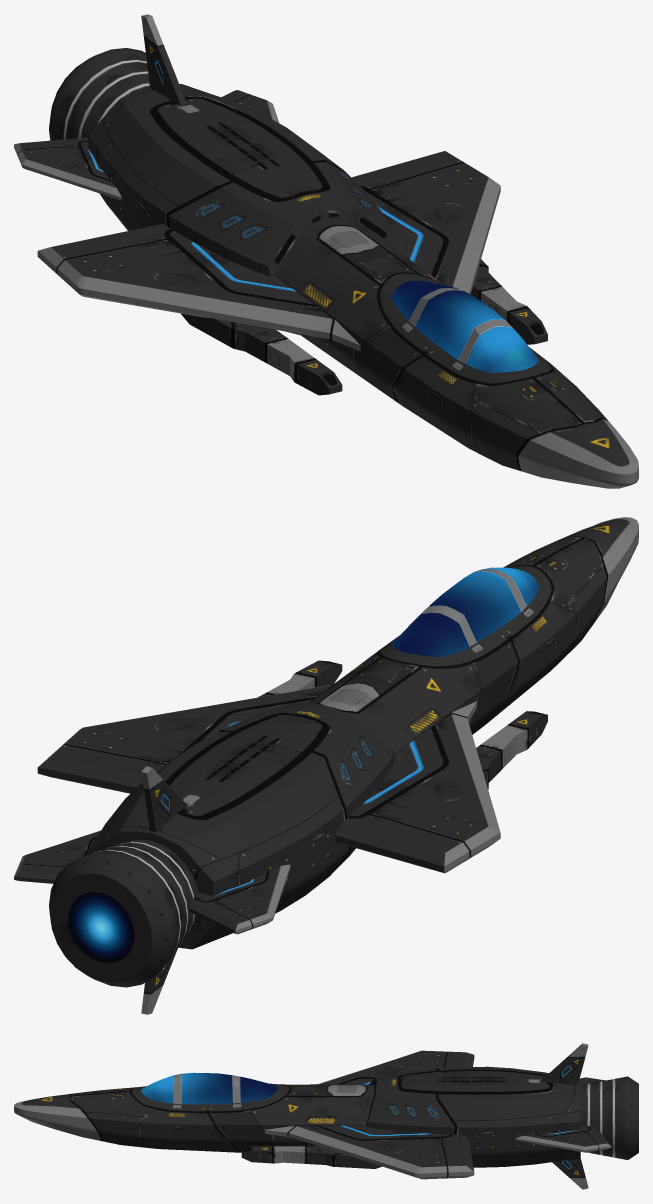
The model's file is StarSparrow12 - Copy.fbx.
3 views of the same model, one above another, from view 1: azimuth 30°, elevation 25°; view 2: azimuth 150°, elevation 25°; view 3: azimuth 270°, elevation 25° (orthographic). The views are drawn at different scales.
Parts seen in each view (by area): view 1: StarSparrow_Core, StarSparrow_Wing, StarSparrow_Wing_1, StarSparrow_Thruster, StarSparrow_Weapon, StarSparrow_Wing_2, StarSparrow_Weapon_1, StarSparrow_Tail, StarSparrow_Wing_3; view 2: StarSparrow_Core, StarSparrow_Thruster, StarSparrow_Wing, StarSparrow_Wing_1, StarSparrow_Wing_2, StarSparrow_Weapon, StarSparrow_Wing_3, StarSparrow_Tail, StarSparrow_Weapon_1, StarSparrow_Tail_1; view 3: StarSparrow_Core, StarSparrow_Wing_1, StarSparrow_Thruster, StarSparrow_Wing, StarSparrow_Weapon_1, StarSparrow_Wing_3, StarSparrow_Tail, StarSparrow_Tail_1.
Part boxes in pixels (<box>): StarSparrow_Core: <box>88,84,638,488</box>; StarSparrow_Wing: <box>37,224,360,351</box>; StarSparrow_Wing_1: <box>351,151,500,294</box>; StarSparrow_Thruster: <box>49,48,149,140</box>; StarSparrow_Weapon: <box>181,313,342,395</box>; StarSparrow_Wing_2: <box>14,137,121,200</box>; StarSparrow_Weapon_1: <box>471,259,547,344</box>; StarSparrow_Tail: <box>141,14,186,105</box>; StarSparrow_Wing_3: <box>221,90,279,123</box>; StarSparrow_Core: <box>88,517,638,949</box>; StarSparrow_Thruster: <box>49,839,198,987</box>; StarSparrow_Wing: <box>335,701,500,873</box>; StarSparrow_Wing_1: <box>37,683,334,793</box>; StarSparrow_Wing_2: <box>189,864,290,934</box>; StarSparrow_Weapon: <box>476,711,547,789</box>; StarSparrow_Wing_3: <box>14,830,100,883</box>; StarSparrow_Tail: <box>141,766,186,832</box>; StarSparrow_Weapon_1: <box>258,660,342,697</box>; StarSparrow_Tail_1: <box>141,948,177,1014</box>; StarSparrow_Core: <box>14,1066,580,1167</box>; StarSparrow_Wing_1: <box>265,1125,474,1179</box>; StarSparrow_Thruster: <box>580,1076,638,1159</box>; StarSparrow_Wing: <box>316,1050,474,1084</box>; StarSparrow_Weapon_1: <box>241,1146,381,1168</box>; StarSparrow_Wing_3: <box>515,1125,611,1152</box>; StarSparrow_Tail: <box>541,1043,588,1084</box>; StarSparrow_Tail_1: <box>552,1158,588,1189</box>.
Bounding box in the file's own units: 621 × 347 × 1356.
1 material, 1 textured.
